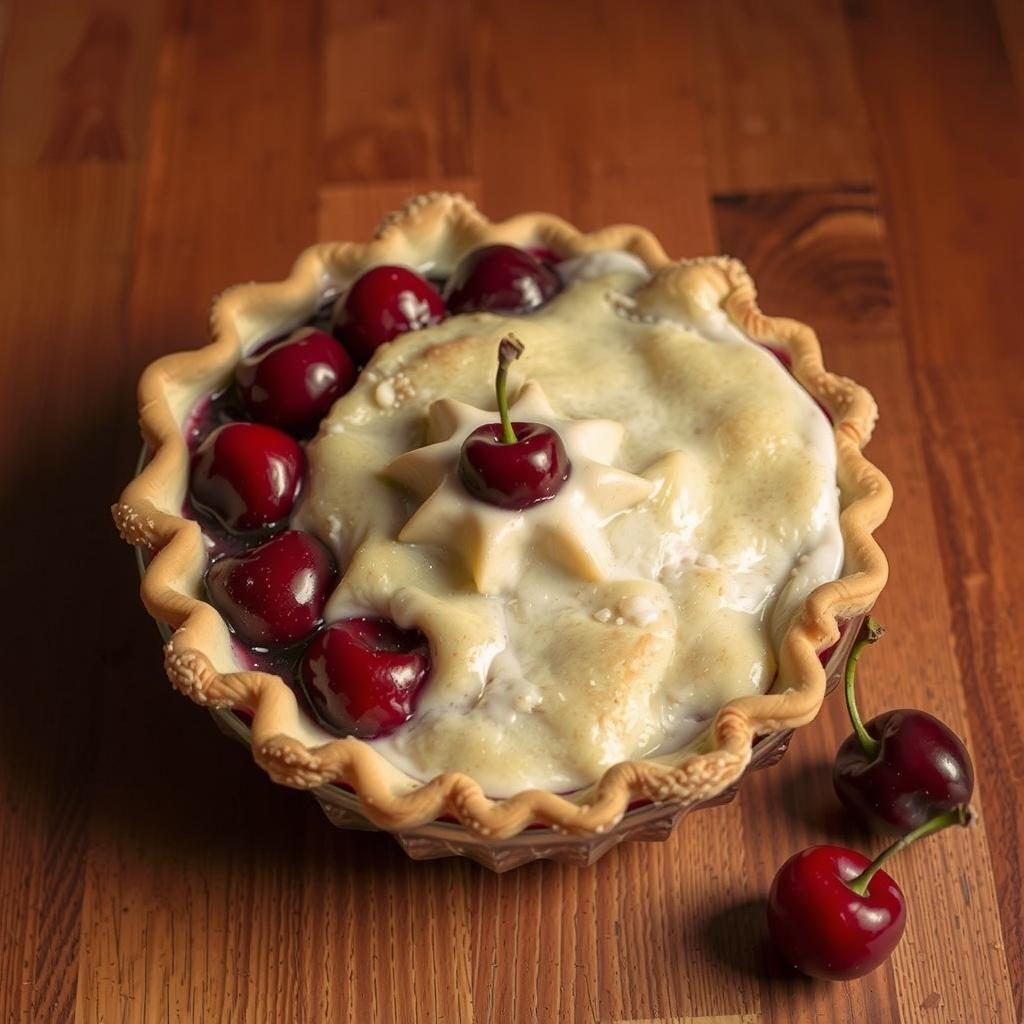pie: (109, 187, 901, 886)
